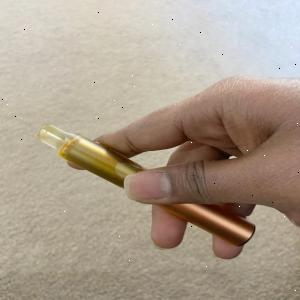Golden-E-Ciggirate: (22, 114, 270, 259)
